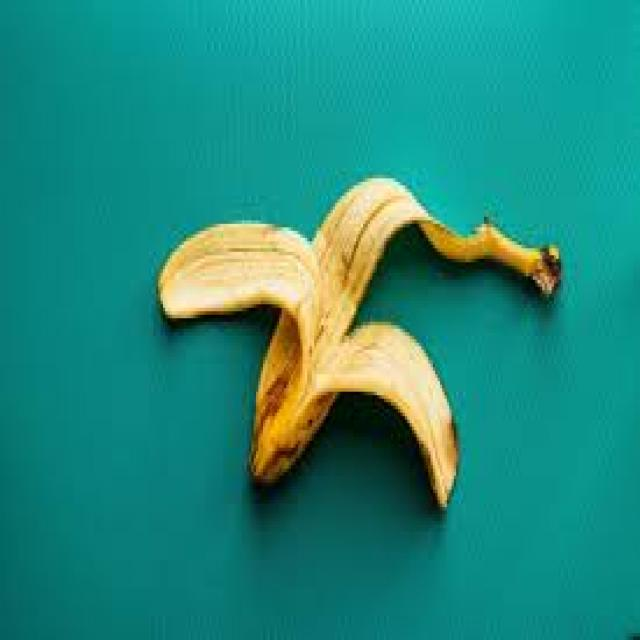Cascara de banano: (159, 175, 564, 516)
